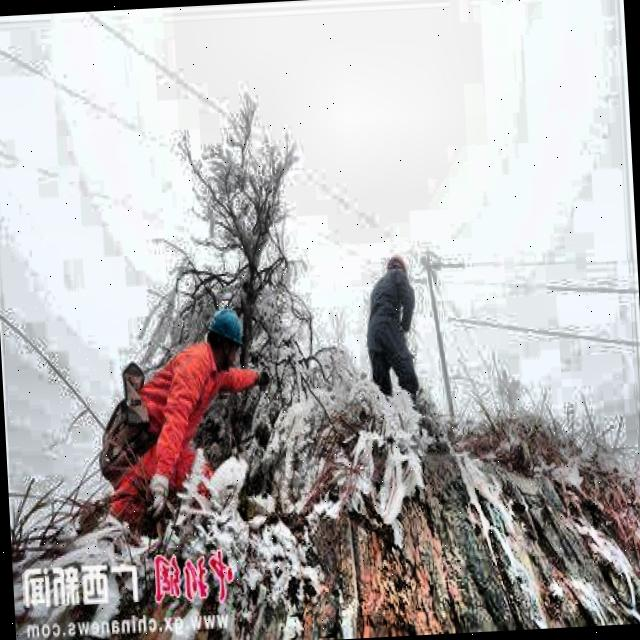helmet: (202, 302, 248, 369), (384, 249, 410, 287)
